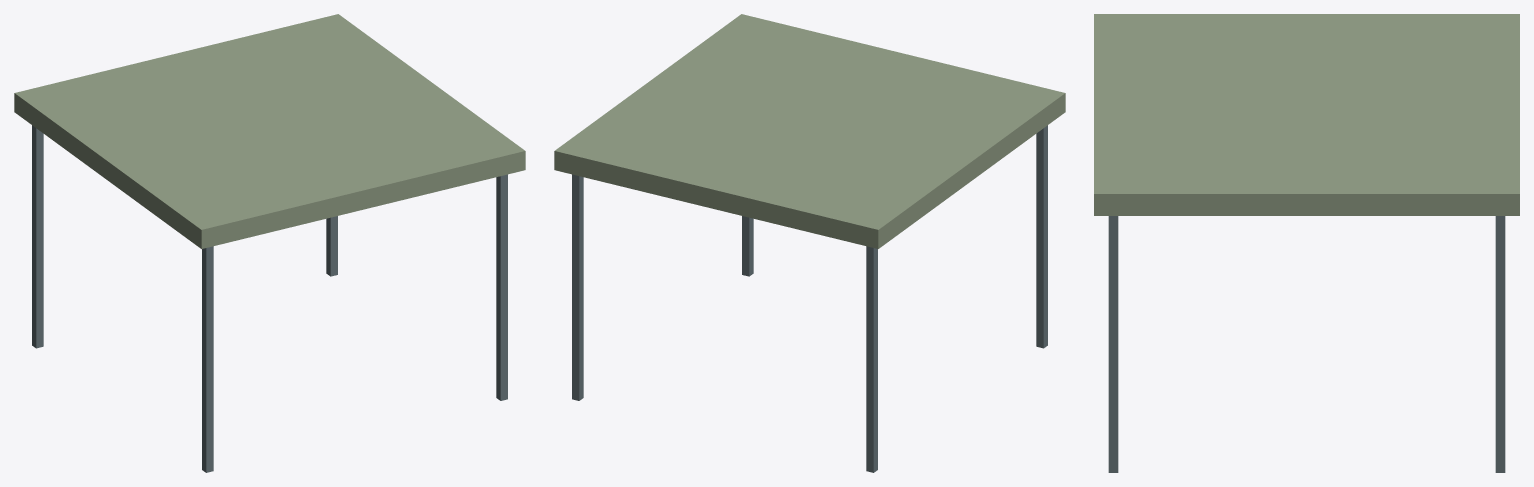
Rendered from zombie-quarantine-streets-inspection-canopy-9a6fb56c__19324.glb.
3 renders of one model, left to right at view 1: azimuth 30°, elevation 25°; view 2: azimuth 150°, elevation 25°; view 3: azimuth 270°, elevation 25°, orthographic. The views are drawn at different scales.
Parts seen in each view (by area): view 1: inspection-canopy; view 2: inspection-canopy; view 3: inspection-canopy.
Boxes of the visible parts, x1=… form: inspection-canopy: x1=14, y1=14, x2=525, y2=472; inspection-canopy: x1=554, y1=14, x2=1065, y2=472; inspection-canopy: x1=1094, y1=14, x2=1519, y2=472.
Size of the model in its own units: 4.4 by 3.25 by 4.4.
